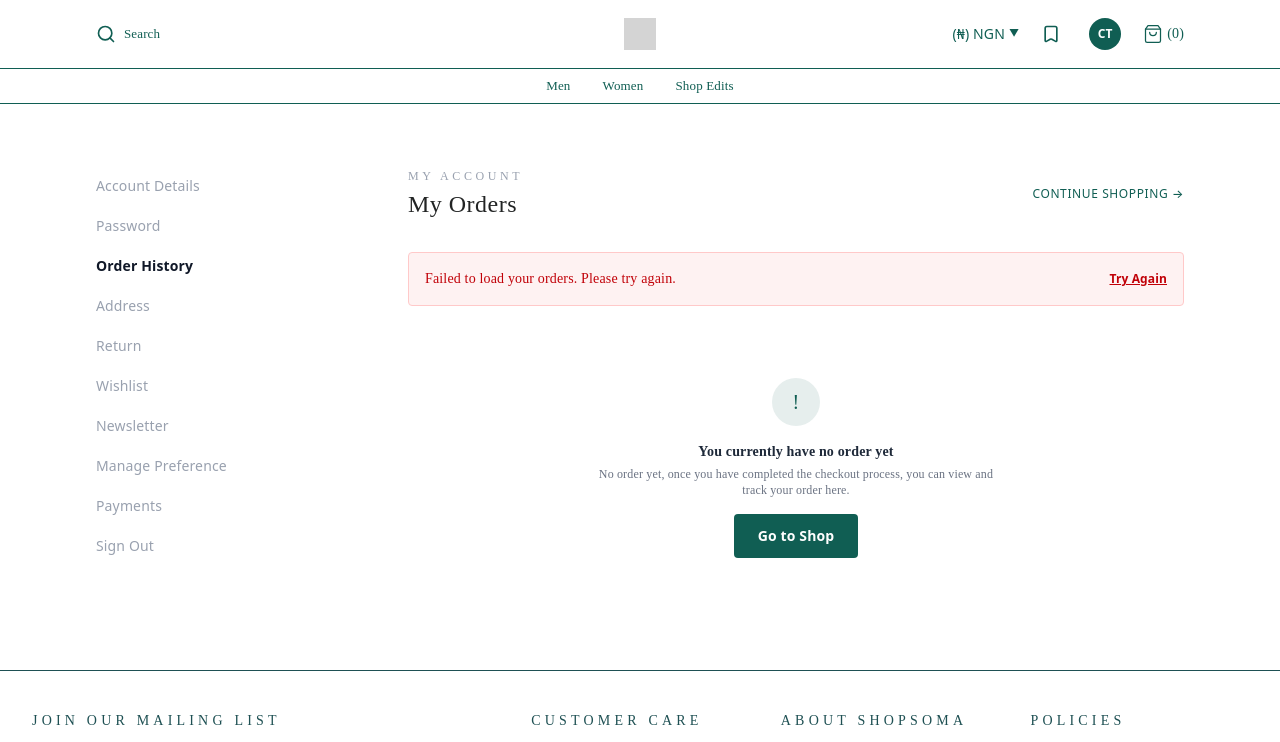
ProfileOrders › shows error banner with retry option when request fails
Check: the text "Failed to load your orders. Please try again." is shown, box [425, 269, 676, 289]
Click the button "Try Again".
click(1138, 279)  # box [1110, 271, 1167, 287]
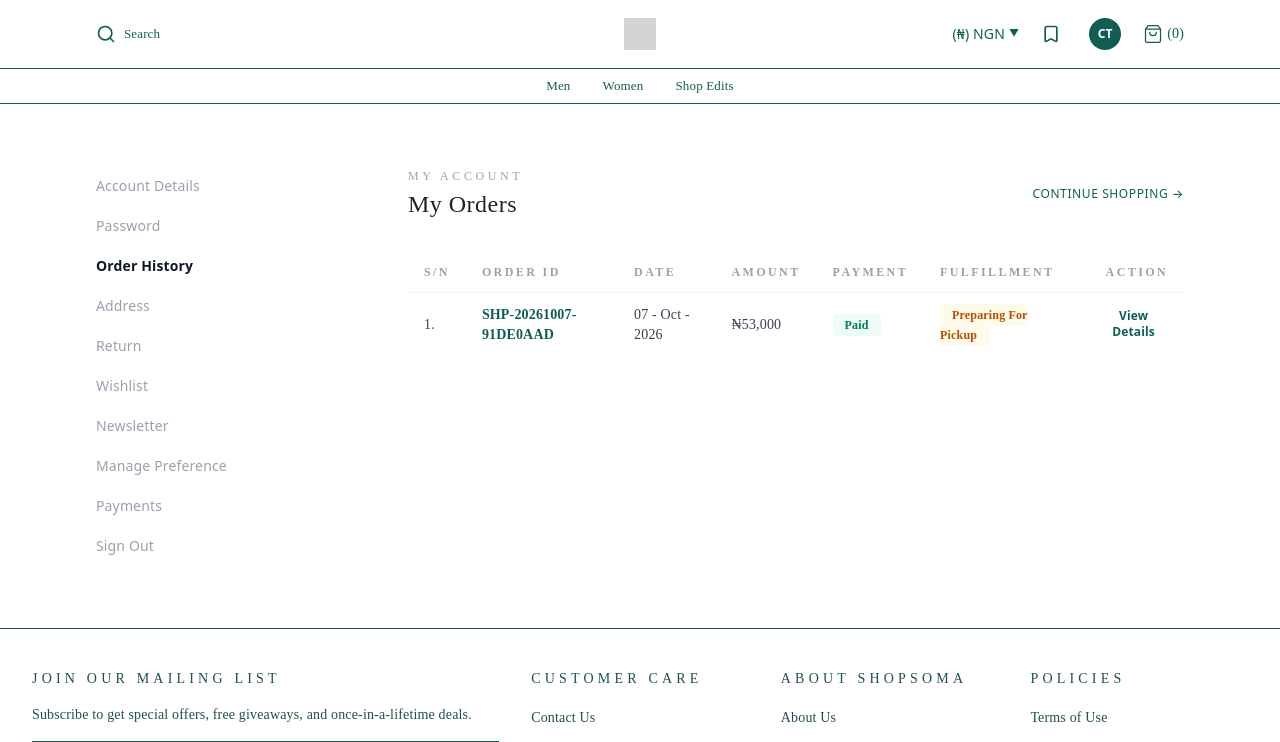
Check: the text "SHP-20261007-91DE0AAD" is shown, box [466, 293, 618, 357]
